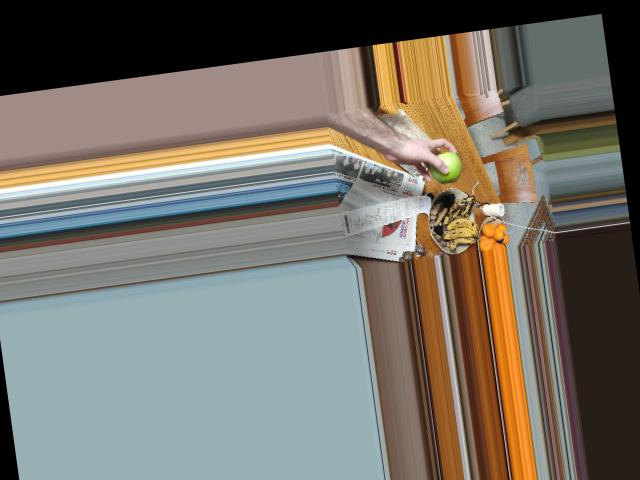apple: (426, 150, 462, 185)
